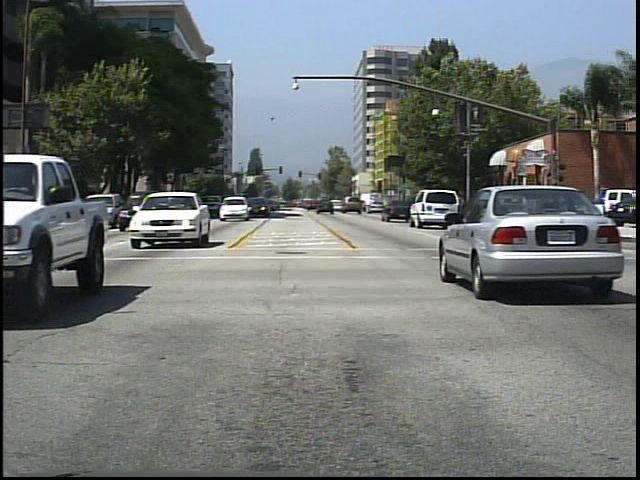person: (493, 191, 512, 228), (453, 193, 471, 228)
